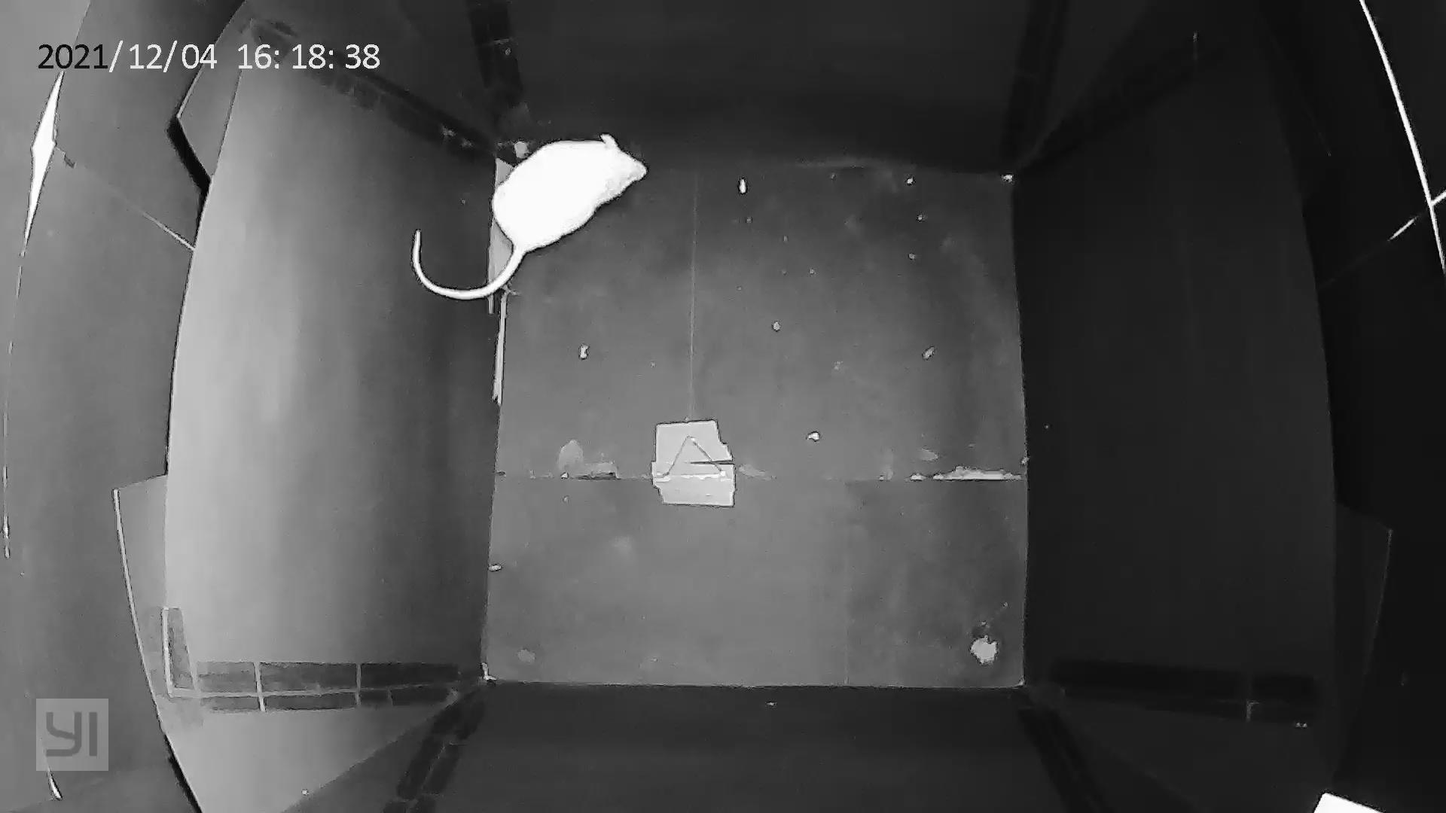rat: (416, 119, 654, 311)
